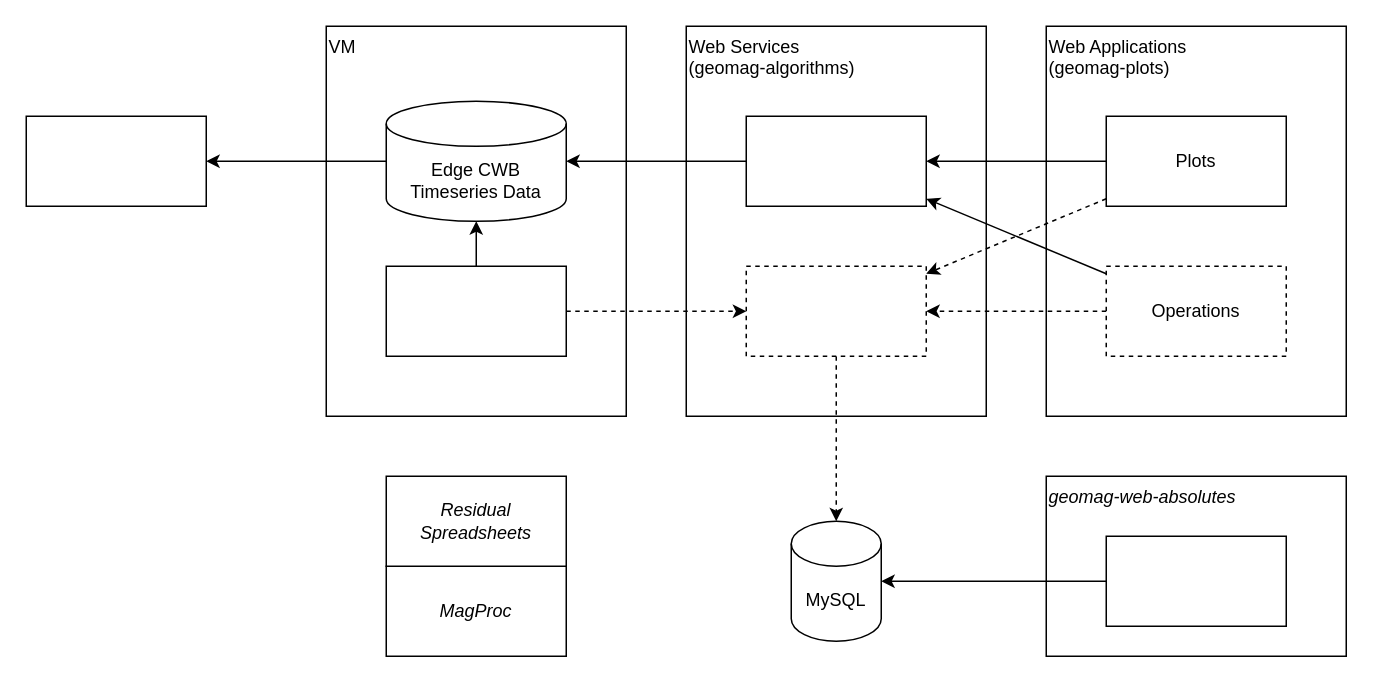
Some shapes in this 1373 by 683 pixel diagram are drawn without their labels. The centre of each missing label's shape, as x and y in pixels:
"Data Processing (geomag-algorithms)" belongs at pixel 475 310.
"Data Web Service" belongs at pixel 835 160.
"Metadata Web Service" belongs at pixel 835 310.
"Observatories" belongs at pixel 115 160.
"Web Absolutes" belongs at pixel 1195 580.
